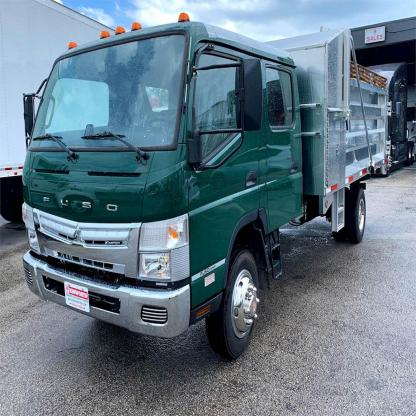truck: (23, 12, 392, 351)
